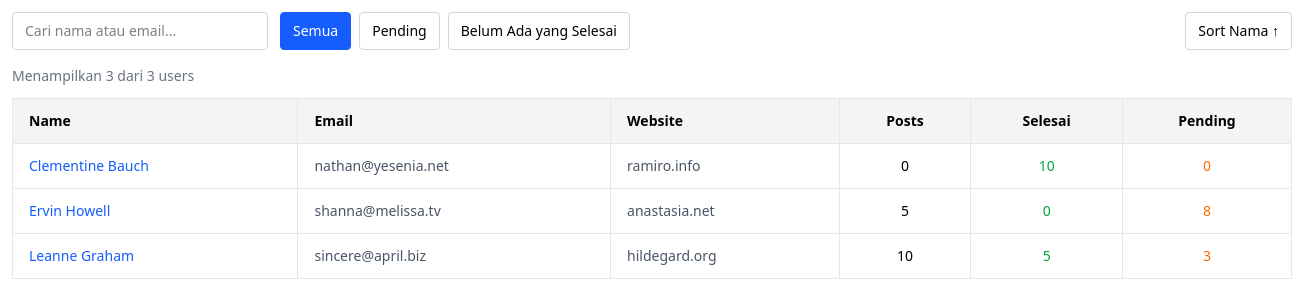
Test: UsersTable › filter "Belum Ada yang Selesai" hanya menampilkan user tanpa completed todos
This screenshot has width=1304, height=296.
Click the button "Belum Ada yang Selesai" at [539, 31], box [448,12,630,50]
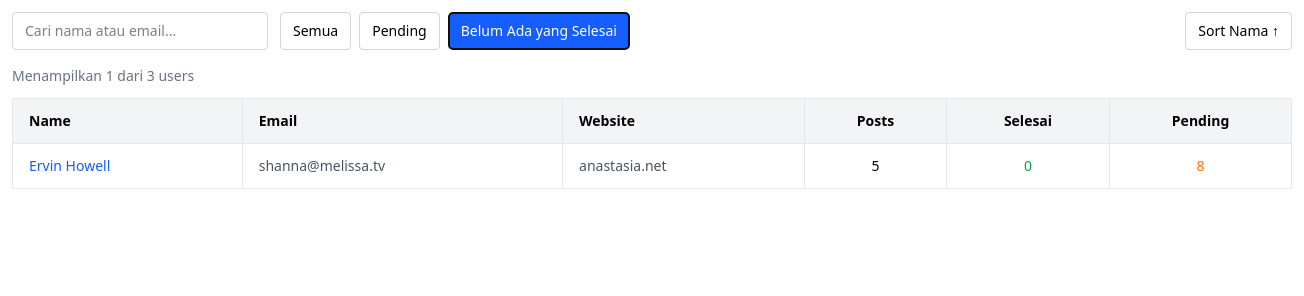
expect the link "Ervin Howell" is shown: met, box [29,156,110,175]
expect no links "Leanne Graham" are shown: met
expect no links "Clementine Bauch" are shown: met
